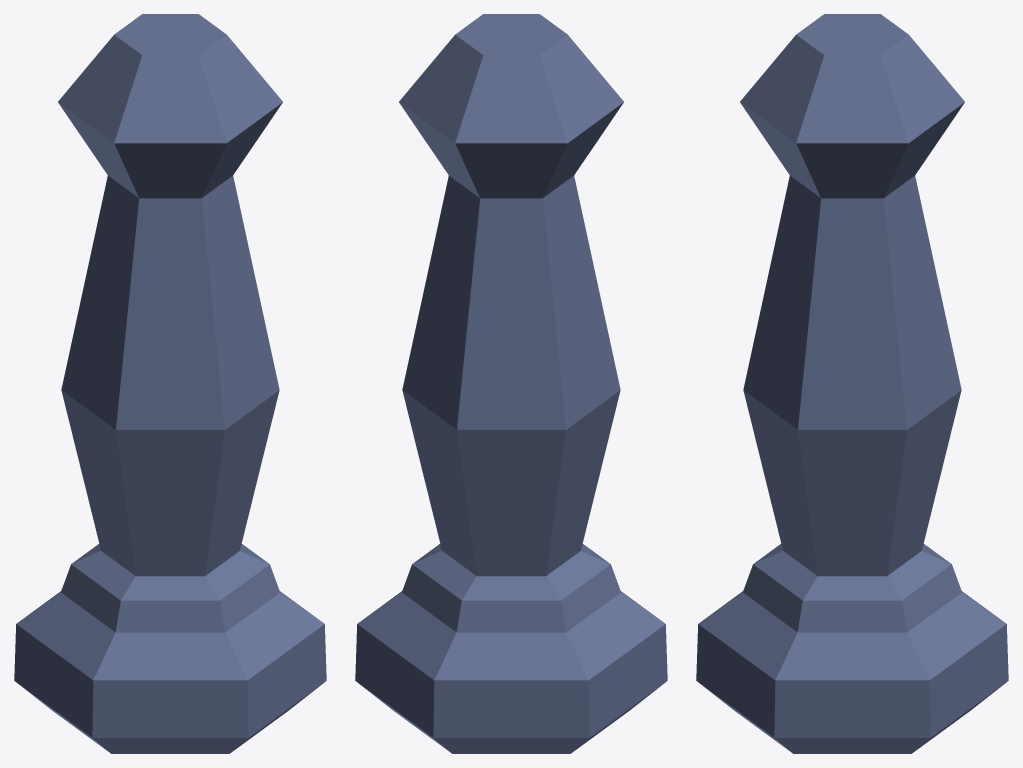
File: statue.glb
3 renders of one model, left to right at view 1: azimuth 30°, elevation 25°; view 2: azimuth 150°, elevation 25°; view 3: azimuth 270°, elevation 25°, orthographic.
Visible parts, largest first — view 1: Statue; view 2: Statue; view 3: Statue.
Boxes of the visible parts, left/top/right/bottom form: Statue: left=14, top=14, right=326, bottom=753; Statue: left=355, top=14, right=667, bottom=753; Statue: left=696, top=14, right=1008, bottom=753.
Bounding box in the file's own units: 2.29 × 6.32 × 2.65.
